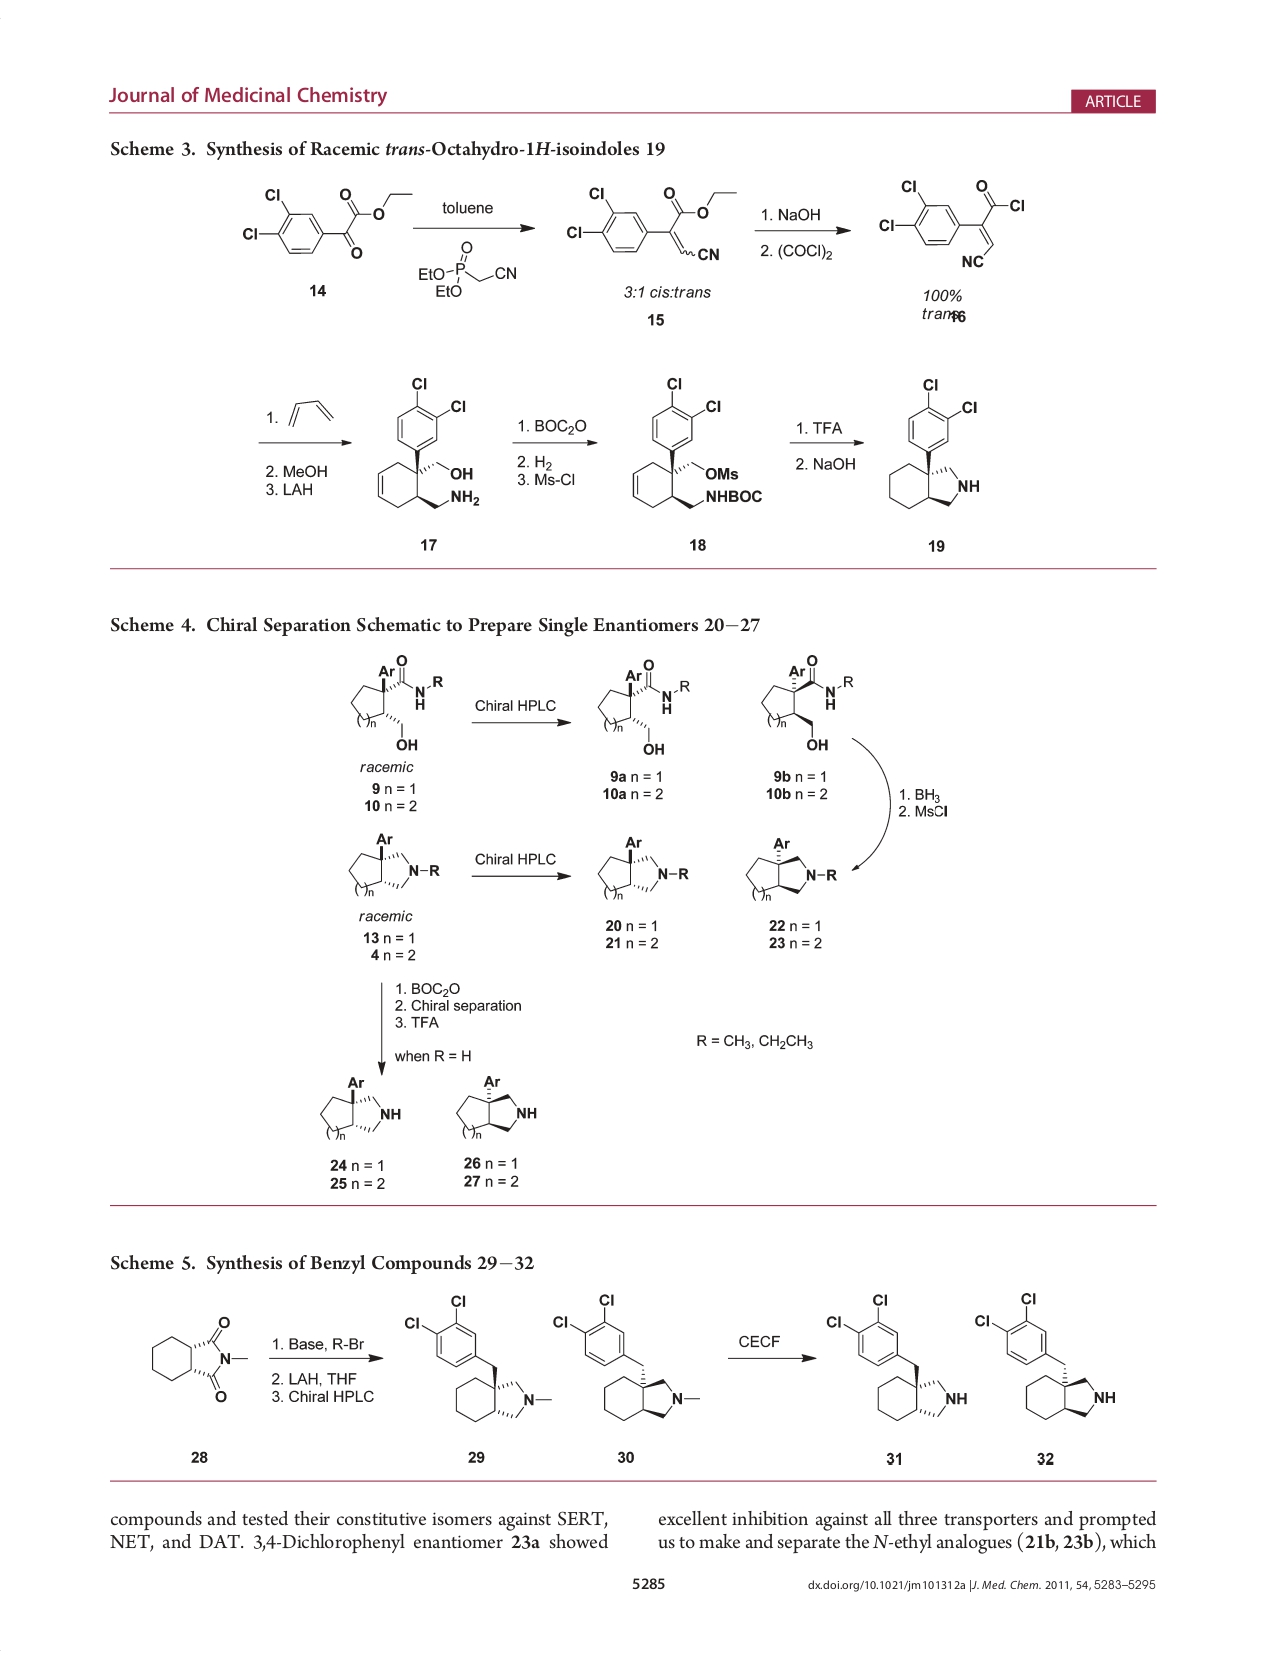exist_molecular: (395, 1289, 553, 1423), (553, 1285, 703, 1423), (968, 1286, 1117, 1423), (622, 372, 765, 515), (824, 1287, 967, 1423), (864, 173, 1035, 277), (368, 366, 484, 516), (563, 178, 737, 270), (879, 372, 988, 513), (235, 181, 415, 261), (340, 650, 444, 755), (757, 652, 856, 759), (596, 652, 692, 759), (149, 1306, 235, 1407), (731, 827, 838, 903), (414, 237, 519, 303), (594, 833, 692, 904), (347, 827, 439, 896), (452, 1071, 540, 1142), (315, 1072, 403, 1142), (282, 384, 335, 432)
